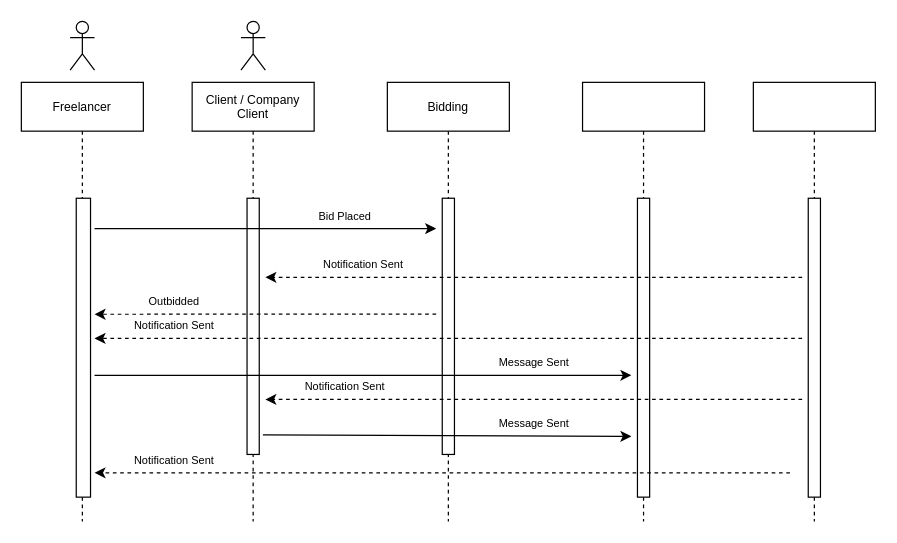
Some shapes in this 897 by 543 pixel diagram are drawn without their labels. Here are the shapes that lost their labels. From the top down, the box of each, then its label:
(581, 81, 705, 522): Chat Message Server
(752, 81, 875, 522): Backend Server
